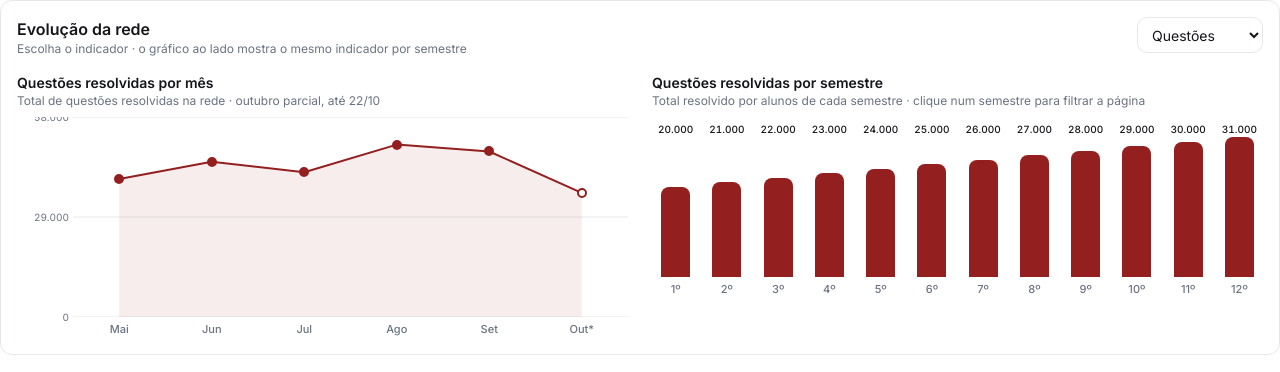
Test: EvolucaoRede (§12.5) › indicador videos: títulos e descrições da §12.5
Select "Vídeos" in the dropdown named "Indicador": (1200, 35) 1137,17 -> 1263,53
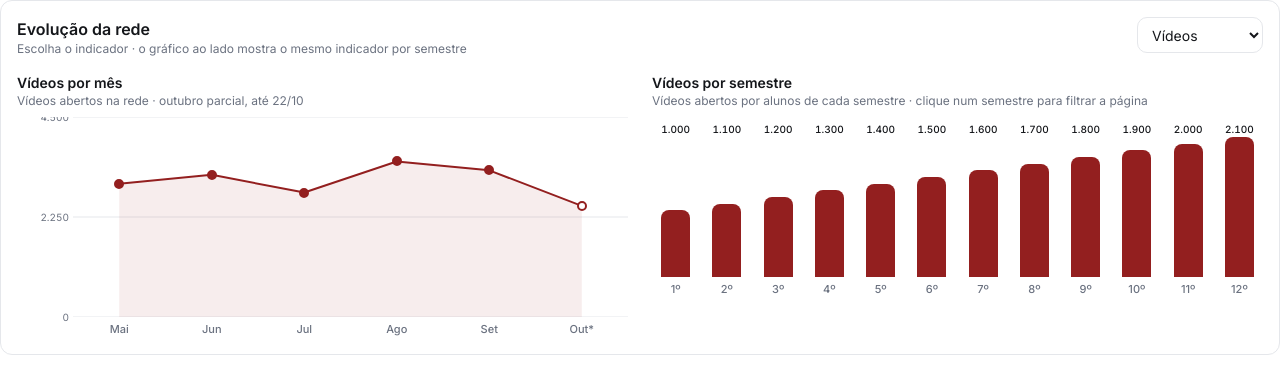
Check: the heading "Vídeos por mês" is shown, box 17,74 -> 122,91
